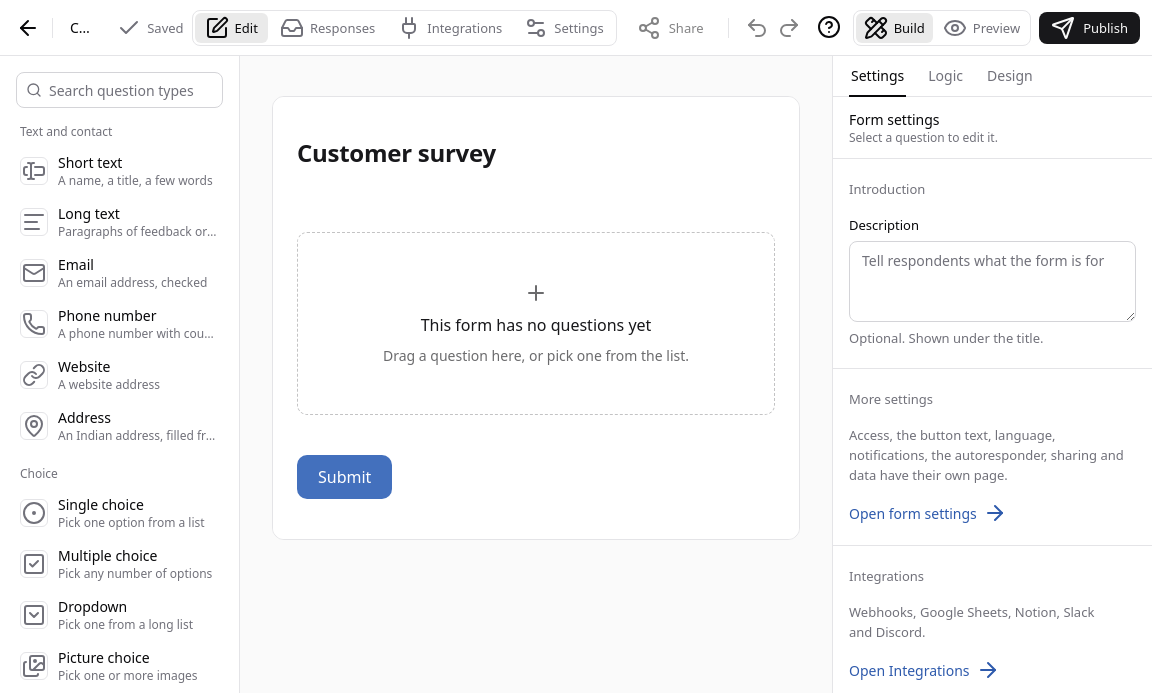
Test: EditorPage › offers to load the latest version after a conflict
The image size is (1152, 693).
Click the button with aria-label "Add email": (120, 272) [12,248,227,297]
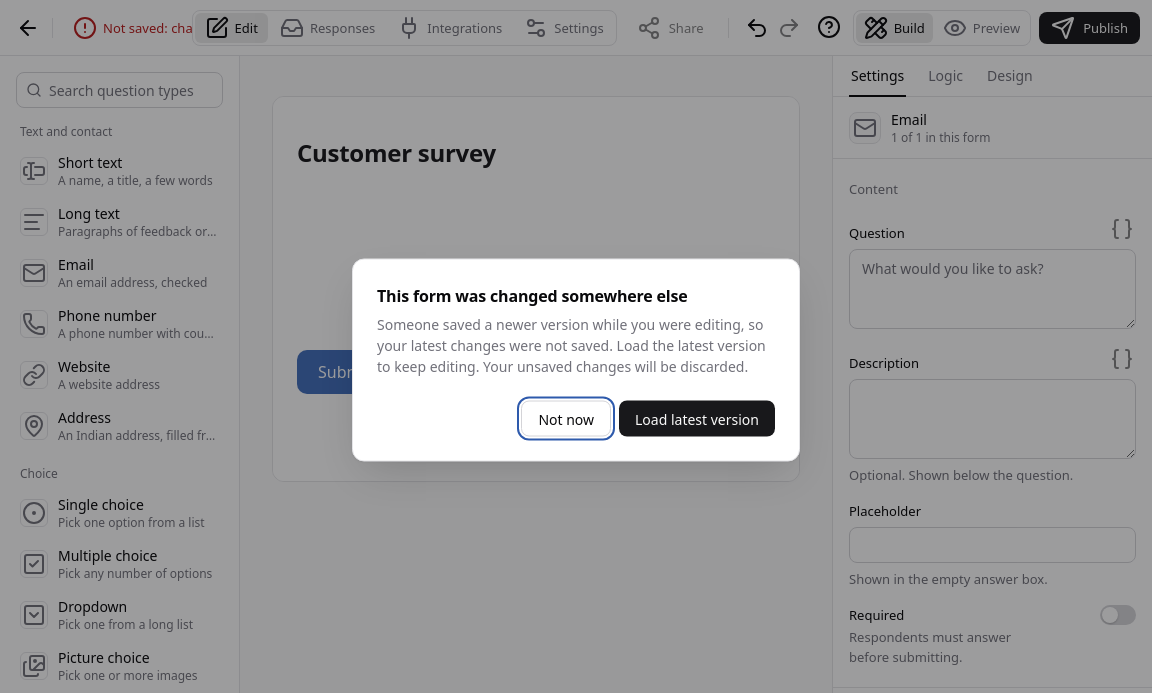
Now the button "Reload" is shown, box [296,18,337,38]
Click the button "Load latest version": (697, 418) [619,400,775,436]
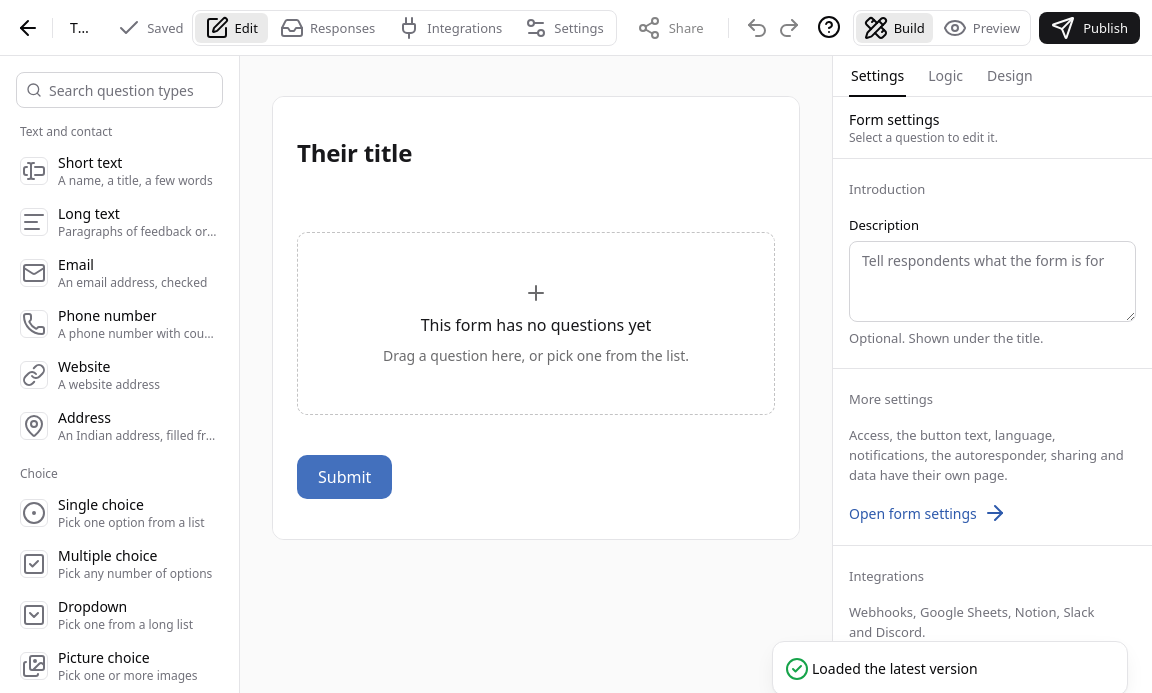
Now the heading "This form was changed somewhere else" is gone
Now the field named "Form title" holds "Their title", box [61,12,105,44]
Now the text "This form has no questions yet" is shown, box [421,313,651,337]
